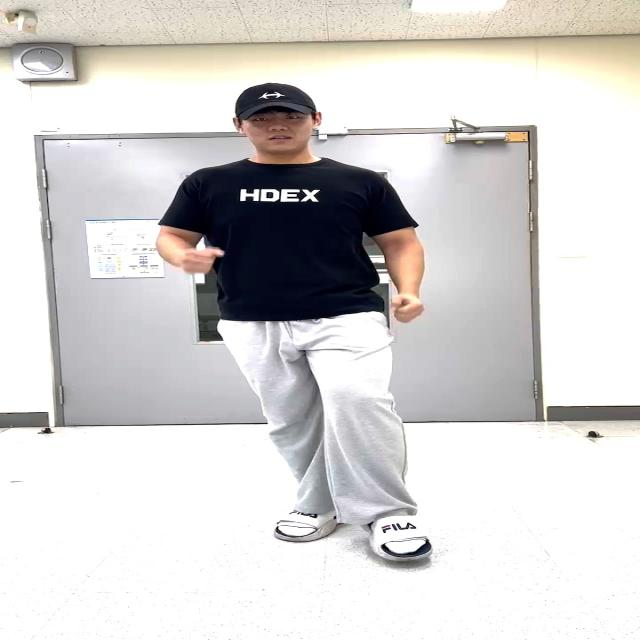leg: (314, 338, 452, 568)
